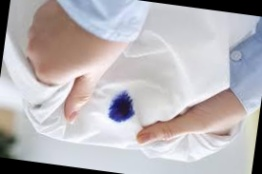ink: (109, 93, 136, 123)
